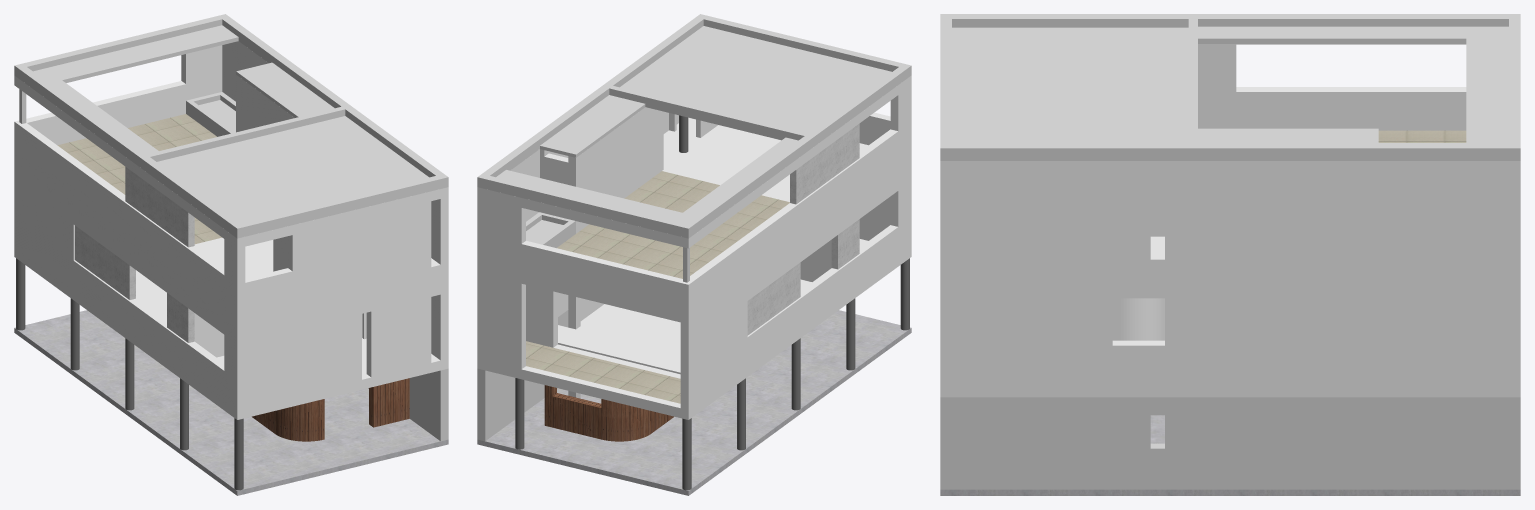
Rendered from modelo.glb.
3 renders of one model, left to right at view 1: azimuth 30°, elevation 25°; view 2: azimuth 150°, elevation 25°; view 3: azimuth 270°, elevation 25°, orthographic. The views are drawn at different scales.
Parts seen in each view (by area): view 1: parte-06, parte-01, parte-10, parte-04, parte-11, parte-09, parte-02, parte-08; view 2: parte-06, parte-01, parte-04, parte-10, parte-09, parte-11, parte-08, parte-02; view 3: parte-06, parte-01, parte-04, parte-10, parte-09.
Boxes of the visible parts, <box> form: parte-06: <box>14,41,448,409</box>; parte-01: <box>14,14,448,441</box>; parte-10: <box>14,310,448,495</box>; parte-04: <box>14,151,448,419</box>; parte-11: <box>75,167,194,342</box>; parte-09: <box>57,114,221,244</box>; parte-02: <box>252,378,409,441</box>; parte-08: <box>16,258,243,490</box>; parte-06: <box>477,75,911,409</box>; parte-01: <box>477,14,911,441</box>; parte-04: <box>477,117,911,419</box>; parte-10: <box>477,310,911,495</box>; parte-09: <box>526,171,789,403</box>; parte-11: <box>747,123,859,335</box>; parte-08: <box>515,115,909,490</box>; parte-02: <box>544,385,673,441</box>; parte-06: <box>940,44,1520,384</box>; parte-01: <box>940,14,1520,489</box>; parte-04: <box>940,236,1520,397</box>; parte-10: <box>940,415,1520,495</box>; parte-09: <box>1378,130,1466,142</box>.
Bounding box in the file's own units: 6.7 × 8.1 × 12.25.
Materials: 9 (4 with a texture image).
